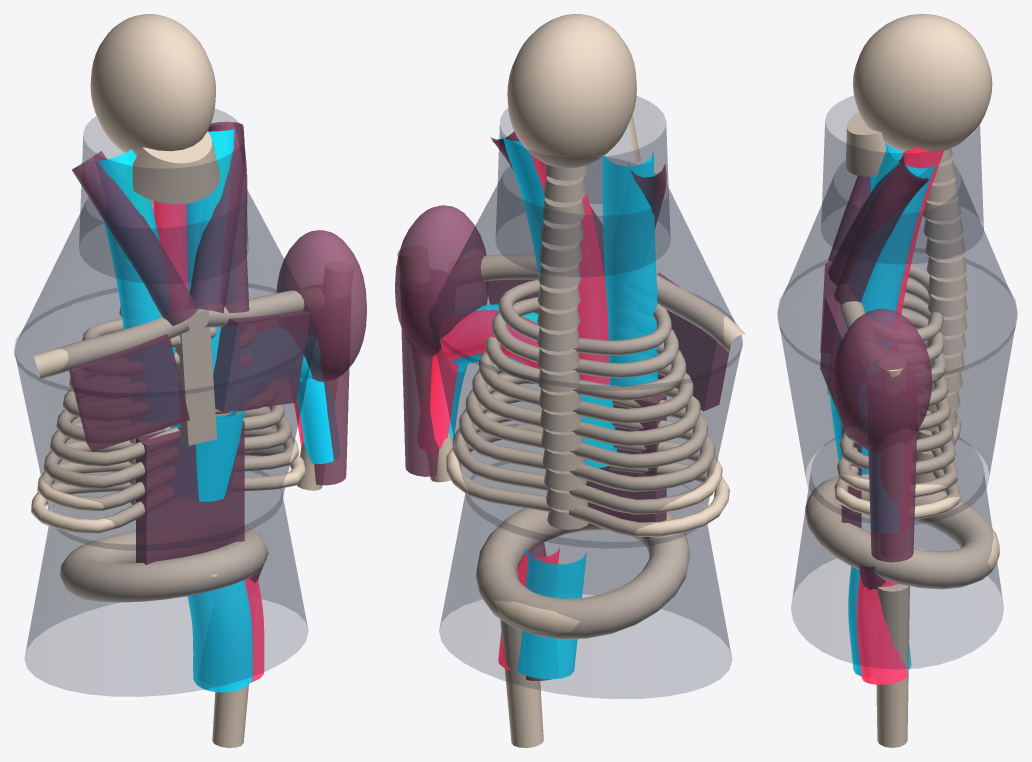
Rendered from atlas_female.glb.
3 views of the same model, side by side, from view 1: azimuth 30°, elevation 25°; view 2: azimuth 150°, elevation 25°; view 3: azimuth 270°, elevation 25° (orthographic). The views are drawn at different scales.
Parts seen in each view (by area): view 1: Skin_Mid_Torso, Skin_Upper_Torso, Skin_Lower_Torso, Skin_Neck, Bone_Cranium, Muscle_Rectus_Abdominis, Bone_Pelvis, Muscle_Pectoralis_Major_Left, Muscle_Deltoid_Right, Muscle_Pectoralis_Major_Right, Muscle_SCM_Left_Sternal, Vessel_Femoral_Vein_Right (+24 smaller); view 2: Skin_Upper_Torso, Skin_Lower_Torso, Skin_Mid_Torso, Skin_Neck, Bone_Cranium, Bone_Pelvis, Muscle_Deltoid_Right, Vessel_IJV_Left, Vessel_Femoral_Vein_Right, Muscle_Biceps_Right, Vessel_Carotid_Right, Bone_Rib_L_8 (+47 smaller); view 3: Skin_Lower_Torso, Skin_Upper_Torso, Skin_Mid_Torso, Skin_Neck, Bone_Cranium, Muscle_Deltoid_Right, Bone_Pelvis, Muscle_Biceps_Right, Muscle_SCM_Right_Clavicular, Vessel_IJV_Right, Bone_Femur_Right, Vessel_Femoral_Artery_Right (+27 smaller).
Boxes of the visible parts, x1,y1,x2,y2 form: Skin_Mid_Torso: (14, 286, 316, 550); Skin_Upper_Torso: (14, 190, 317, 397); Skin_Lower_Torso: (24, 471, 308, 696); Skin_Neck: (79, 109, 248, 283); Bone_Cranium: (90, 14, 216, 156); Muscle_Rectus_Abdominis: (136, 414, 244, 564); Bone_Pelvis: (60, 526, 267, 602); Muscle_Pectoralis_Major_Left: (69, 334, 189, 451); Muscle_Deltoid_Right: (276, 230, 366, 381); Muscle_Pectoralis_Major_Right: (213, 310, 310, 411); Muscle_SCM_Left_Sternal: (72, 151, 198, 325); Vessel_Femoral_Vein_Right: (187, 580, 252, 692); Skin_Upper_Torso: (428, 157, 742, 390); Skin_Lower_Torso: (439, 462, 731, 698); Skin_Mid_Torso: (428, 299, 742, 548); Skin_Neck: (496, 96, 670, 276); Bone_Cranium: (507, 14, 636, 168); Bone_Pelvis: (475, 508, 690, 639); Muscle_Deltoid_Right: (395, 205, 487, 356); Vessel_IJV_Left: (602, 151, 657, 385); Vessel_Femoral_Vein_Right: (517, 549, 586, 679); Muscle_Biceps_Right: (401, 327, 439, 476); Vessel_Carotid_Right: (530, 154, 609, 384); Bone_Rib_L_8: (569, 462, 729, 537); Skin_Lower_Torso: (791, 437, 1003, 669); Skin_Upper_Torso: (777, 161, 1017, 378); Skin_Mid_Torso: (777, 262, 1017, 524); Skin_Neck: (821, 96, 983, 263); Bone_Cranium: (853, 14, 992, 151); Muscle_Deltoid_Right: (832, 308, 932, 450); Bone_Pelvis: (805, 474, 999, 589); Muscle_Biceps_Right: (868, 428, 916, 562); Muscle_SCM_Right_Clavicular: (834, 158, 928, 304); Vessel_IJV_Right: (861, 147, 936, 312); Bone_Femur_Right: (876, 584, 909, 747); Vessel_Femoral_Artery_Right: (857, 574, 907, 684).
Size of the model in its own units: 72.43 by 153 by 47.86.
